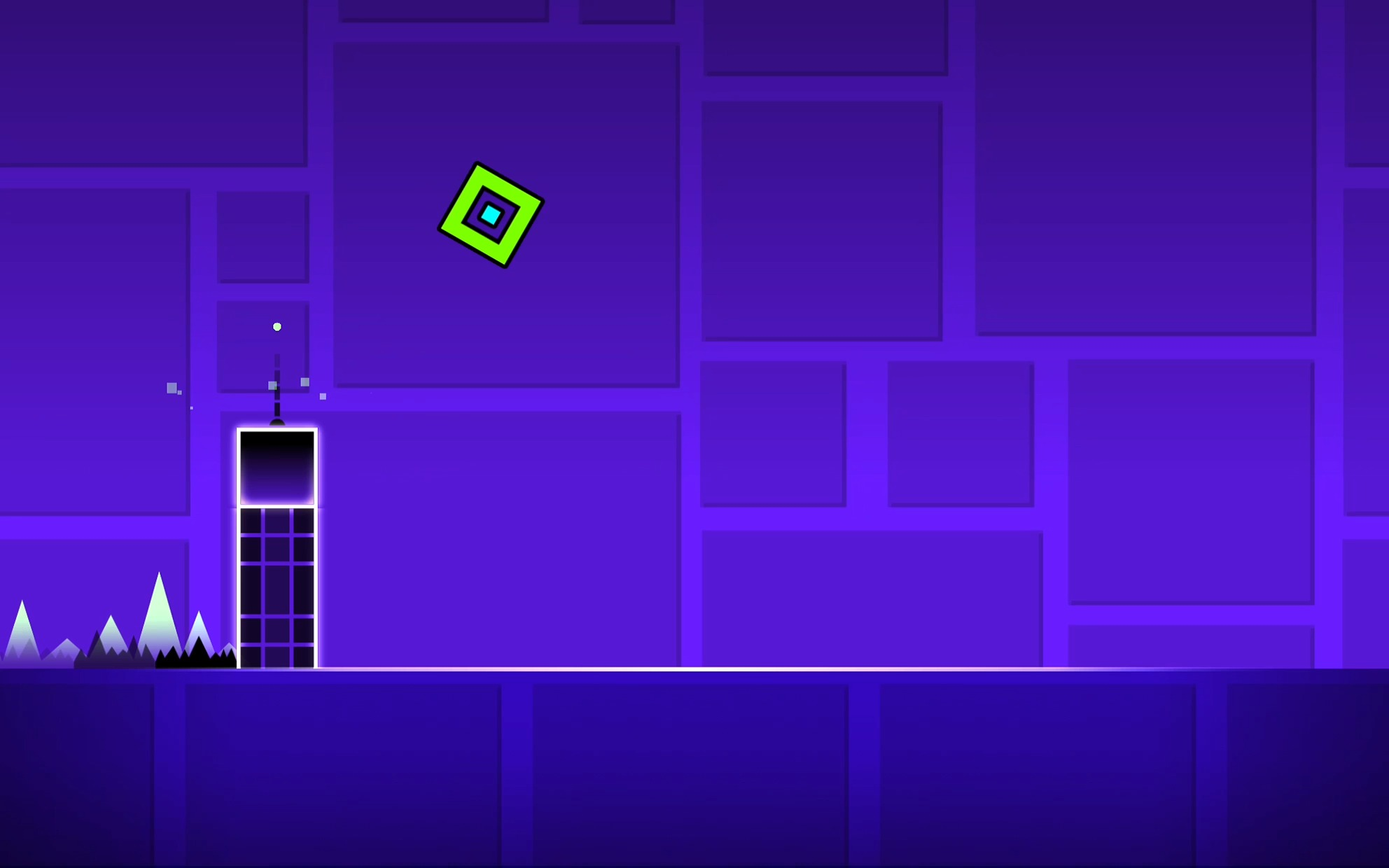Block: (236, 427, 316, 505)
Block2: (240, 508, 314, 671)
Player: (437, 162, 543, 265)
Spike3: (2, 636, 237, 670)
